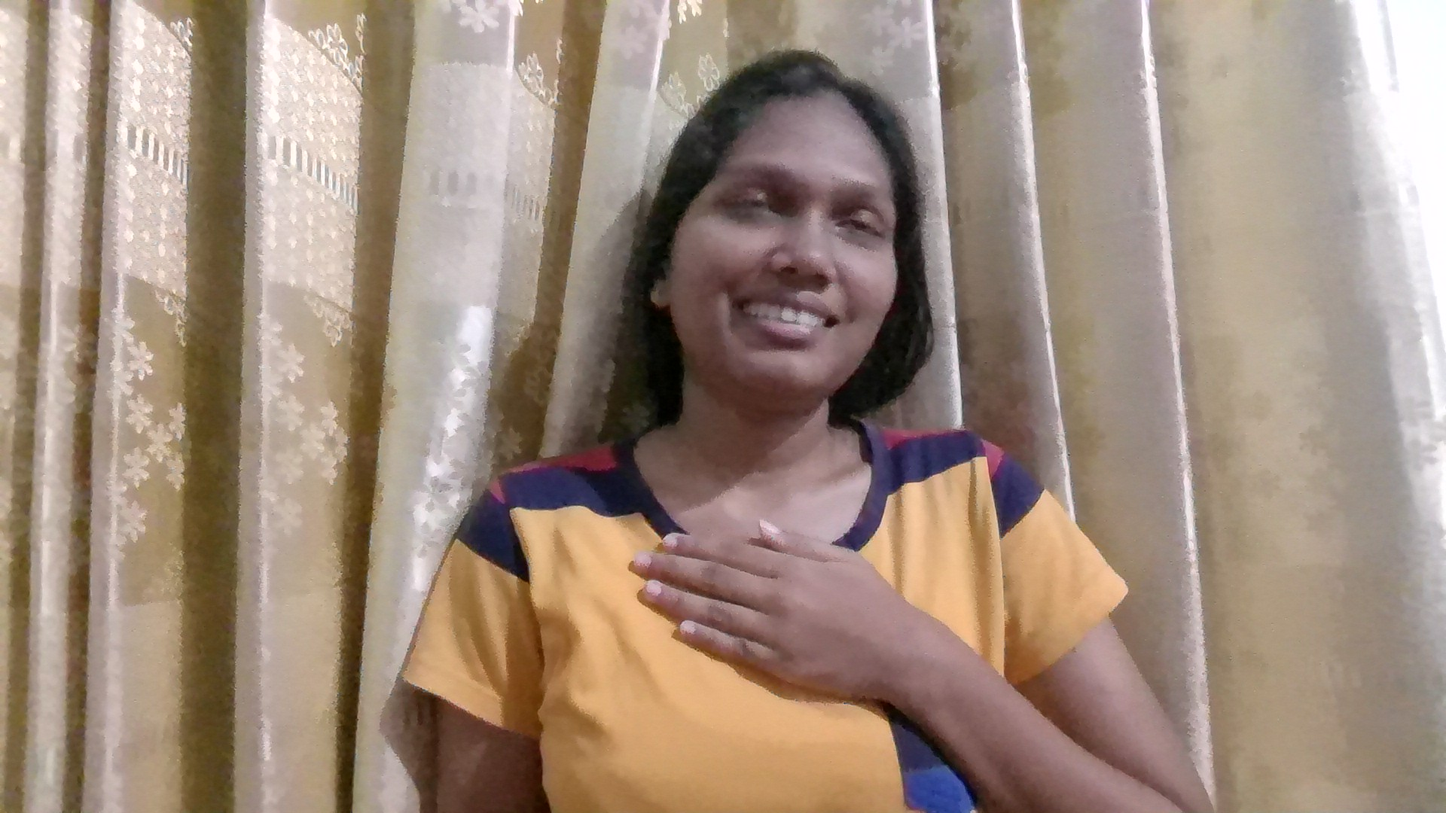Please: (593, 465, 993, 779)
